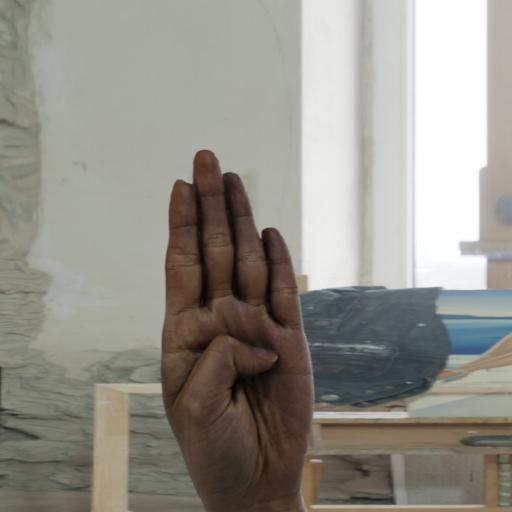B: (145, 140, 326, 504)
